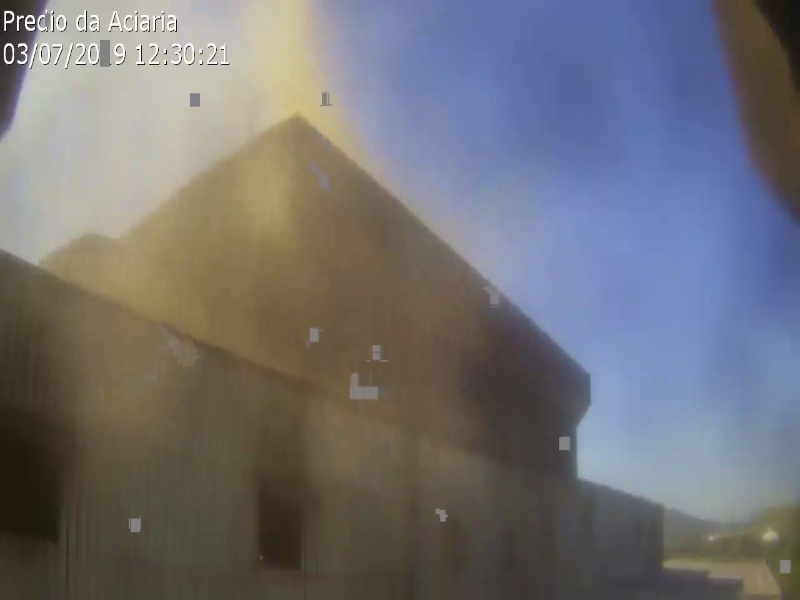Pessimo: (219, 239, 325, 339), (140, 224, 246, 324), (249, 164, 355, 264), (311, 228, 417, 328), (293, 275, 399, 375), (205, 177, 311, 277), (256, 1, 331, 112), (78, 243, 170, 298), (115, 280, 207, 335), (408, 284, 444, 413)
